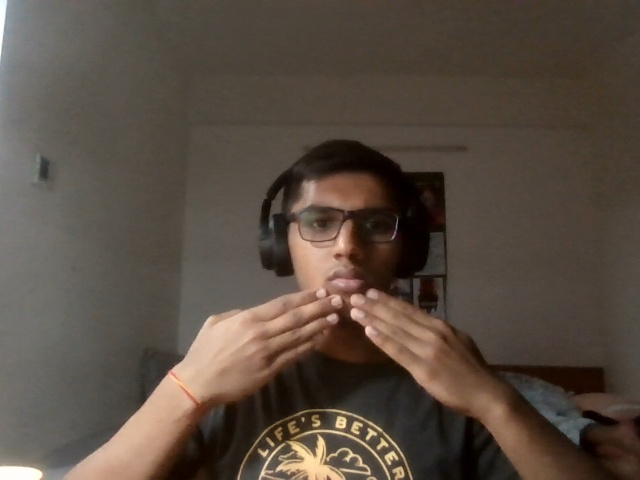thankyou: (169, 284, 524, 417)
